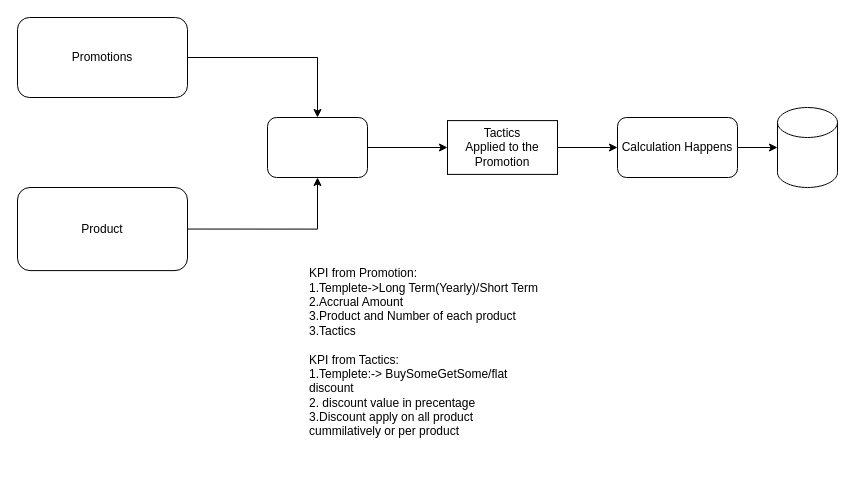
The diagram is 855 pixels wide and 483 high, and some of its shapes have lost their labels. Each missing label, with the centre of its shape:
"save it in DB" belongs at pixel 807 147.
"UnderPromotion we will include products" belongs at pixel 317 147.
